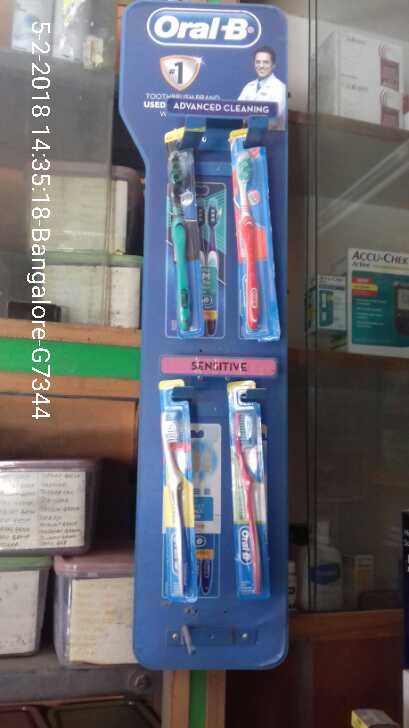oralb: (229, 130, 281, 342), (162, 128, 203, 341), (159, 379, 198, 602), (227, 382, 267, 598)
